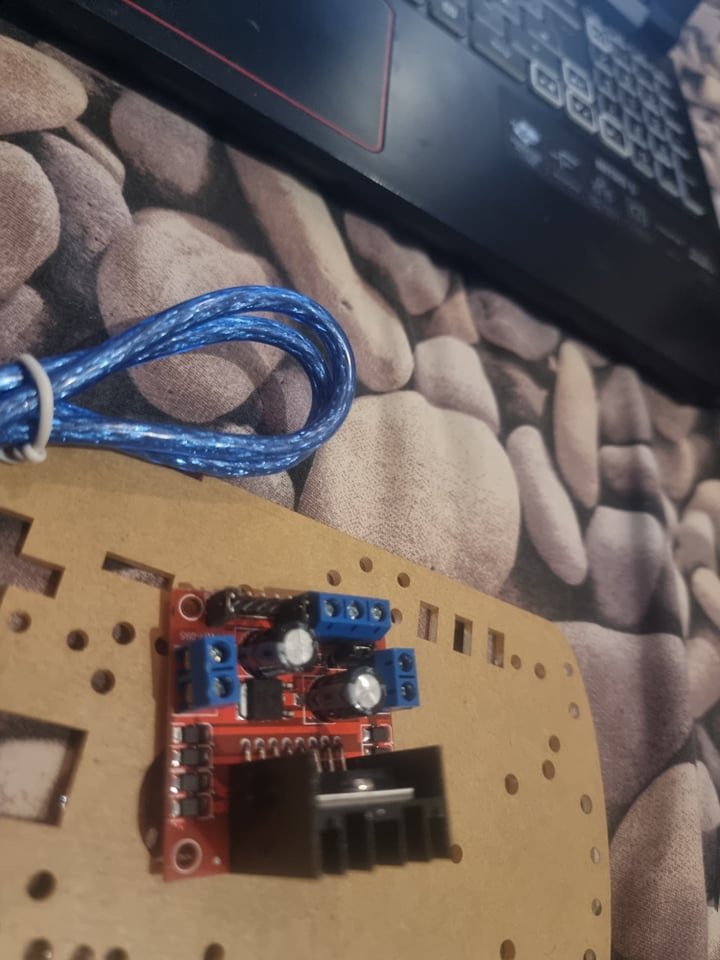MOTOR: (156, 586, 460, 885)
